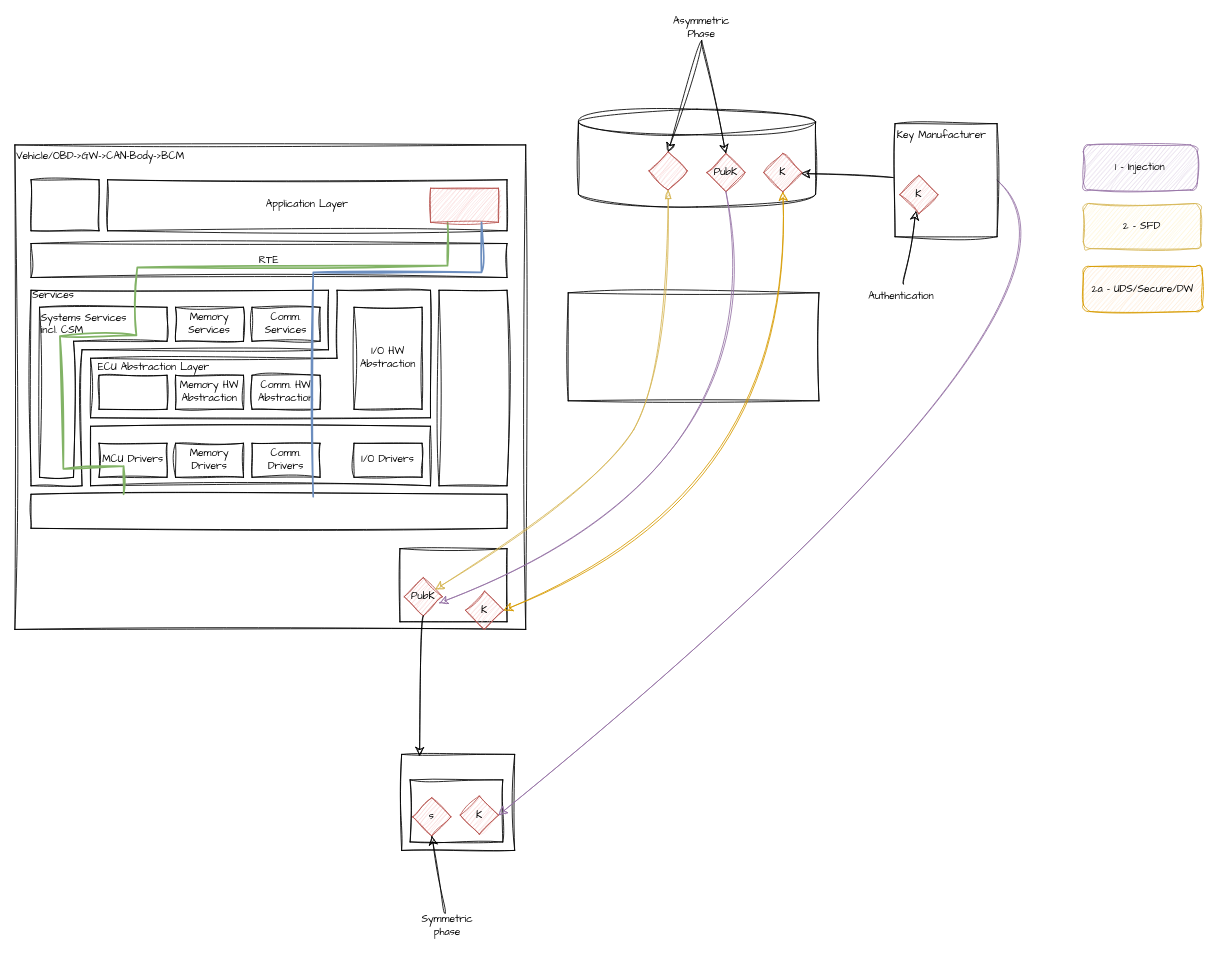
The diagram is 1217 pixels wide and 953 high, and some of its shapes have lost their labels. The box of each missing label's shape, as (x1, y1, x2, y2) in pixels:
APP1: (430, 187, 499, 222)
Complex Drivers: (438, 289, 507, 486)
Fazit: (578, 108, 816, 207)
Hardware: (30, 493, 507, 528)
HSM: (399, 548, 507, 622)
Key/Transponder: (401, 754, 515, 850)
Libs: (30, 179, 99, 231)
MCAL: (90, 425, 431, 486)
Onboard Device Abstr.: (98, 374, 167, 409)
PrivK: (648, 151, 687, 190)
Production/Tester: (567, 292, 819, 401)
SHE: (409, 779, 503, 842)
